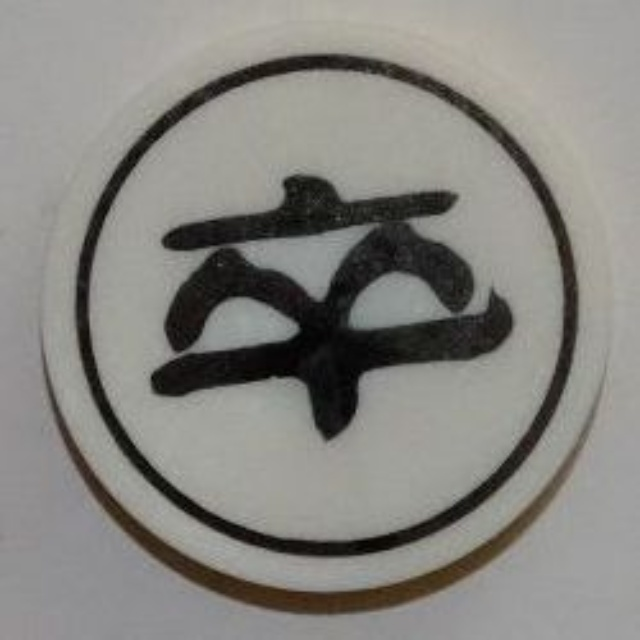black_chot: (40, 18, 623, 601)
